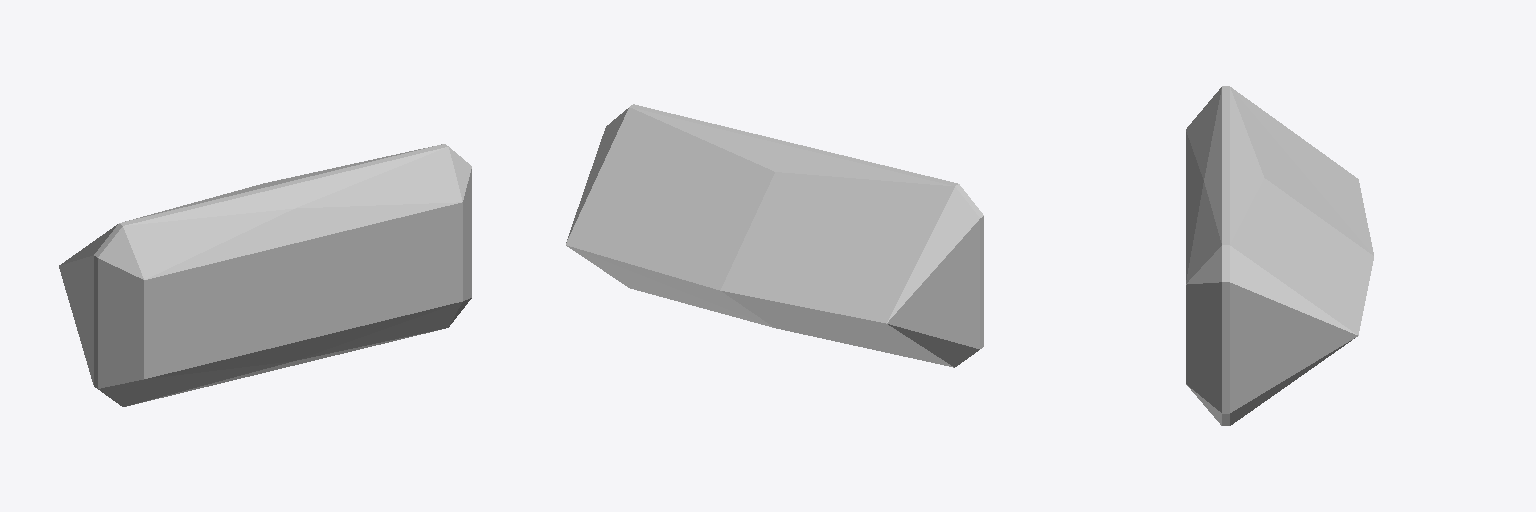
File: gem1.obj
3 views of the same model, side by side, from view 1: azimuth 30°, elevation 25°; view 2: azimuth 150°, elevation 25°; view 3: azimuth 270°, elevation 25° (orthographic).
Visible parts, largest first — view 1: aquacisi_0; view 2: aquacisi_0; view 3: aquacisi_0.
Part boxes in pixels (bbox=[...]): aquacisi_0: bbox=[59, 144, 471, 406]; aquacisi_0: bbox=[566, 104, 983, 367]; aquacisi_0: bbox=[1186, 86, 1373, 425].
Bounding box in the file's own units: 0.3666 × 0.1696 × 0.1599.